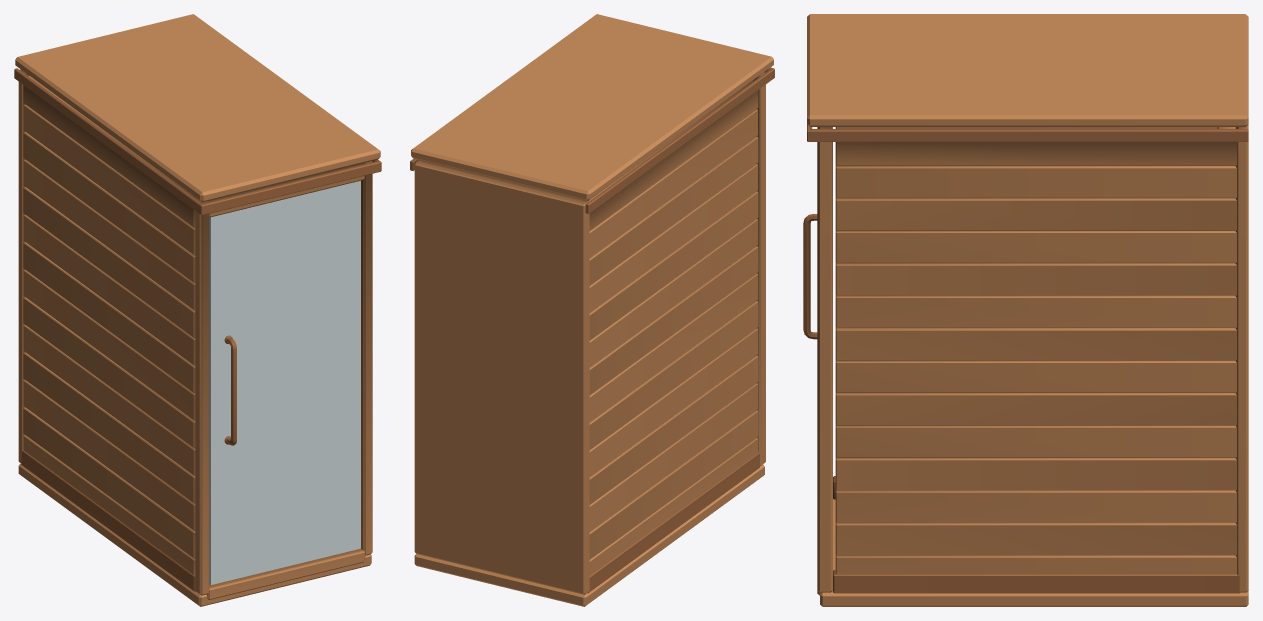
Rendered from soloSauna.glb.
3 views of the same model, side by side, from view 1: azimuth 30°, elevation 25°; view 2: azimuth 150°, elevation 25°; view 3: azimuth 270°, elevation 25° (orthographic). The views are drawn at different scales.
Parts seen in each view (by area): view 1: body, door; view 2: body; view 3: body, door.
Part boxes in pixels (<box>): body: <box>14,14,381,606</box>; door: <box>209,180,360,584</box>; body: <box>410,14,774,606</box>; body: <box>807,14,1248,606</box>; door: <box>803,214,817,339</box>.
Size of the model in its own units: 0.94 by 2.09 by 1.7.
